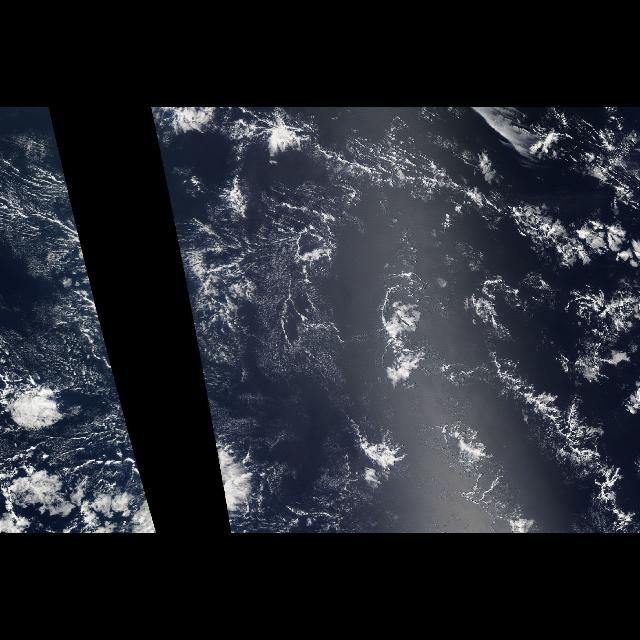Fish: (441, 181, 639, 534)
Gravel: (256, 149, 630, 517)
Sugar: (159, 150, 363, 386), (4, 135, 118, 387)
